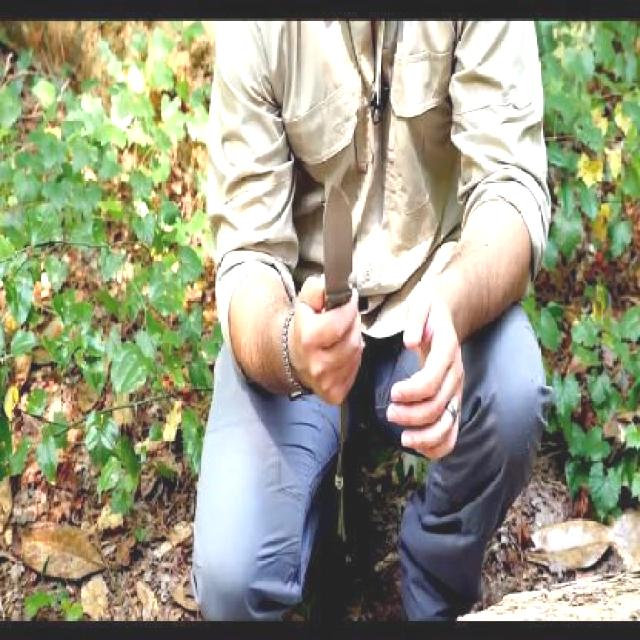knife: (303, 176, 363, 367)
